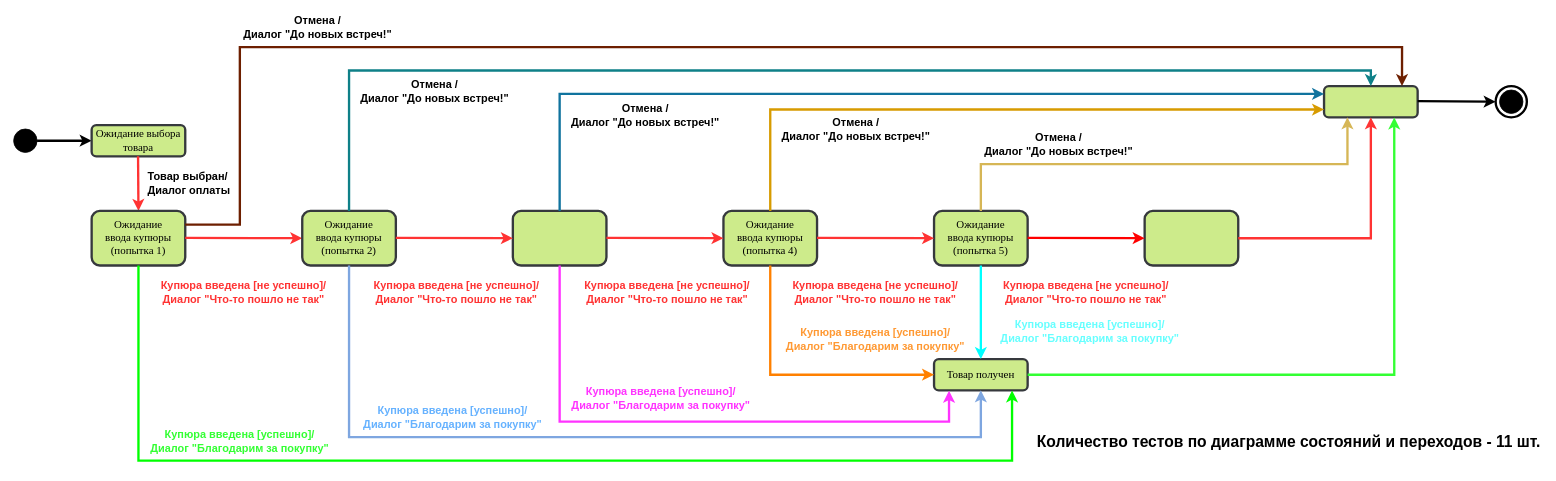
This 1556x481 diagram has some shape labels left out. Each missing label, with the centre of its shape:
"Выход" belongs at (x=1370, y=101).
"Ожидание ввода купюры (попытка 3)" belongs at (x=559, y=237).
"Сброс выбора" belongs at (x=1191, y=237).
